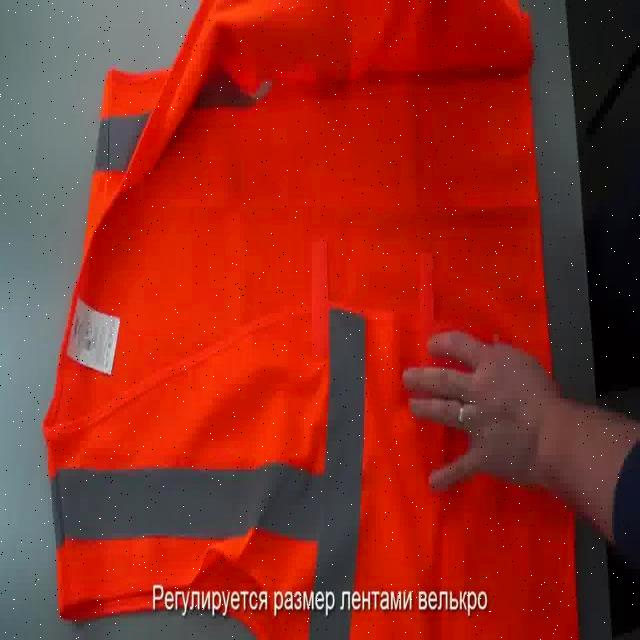Vest: (42, 15, 545, 640)
